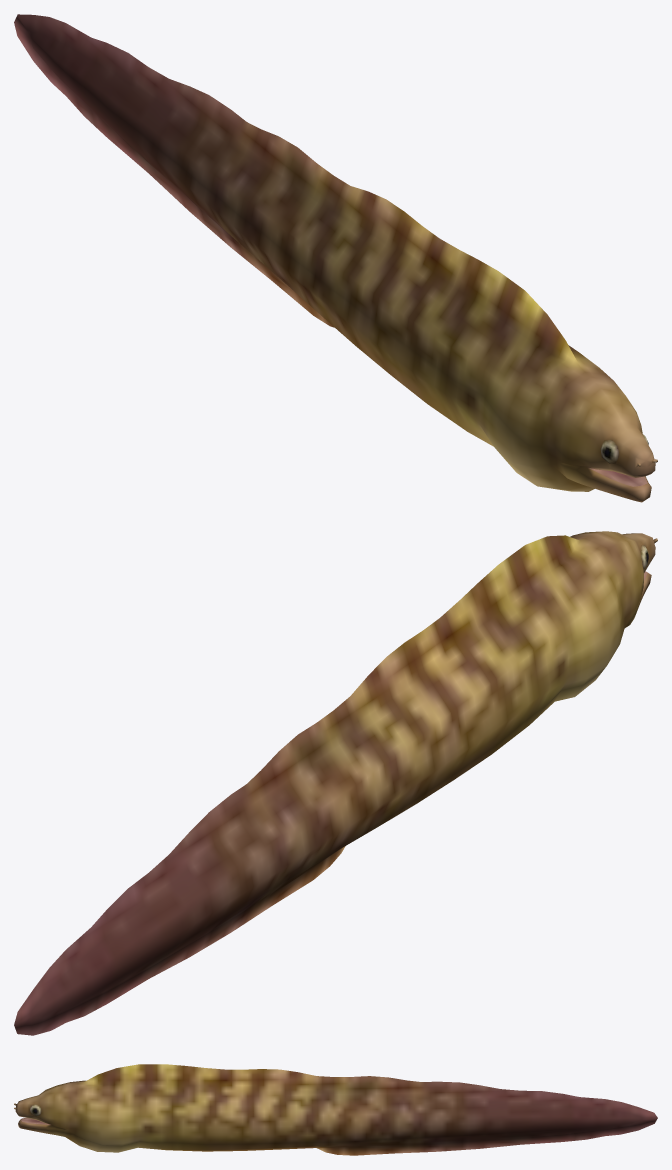
The model's file is moray-eel.glb.
3 renders of one model, top to bottom at view 1: azimuth 30°, elevation 25°; view 2: azimuth 150°, elevation 25°; view 3: azimuth 270°, elevation 25°, orthographic. The views are drawn at different scales.
Size of the model in its own units: 1.11 by 1.88 by 12.03.
Materials: 1 (1 with a texture image).
